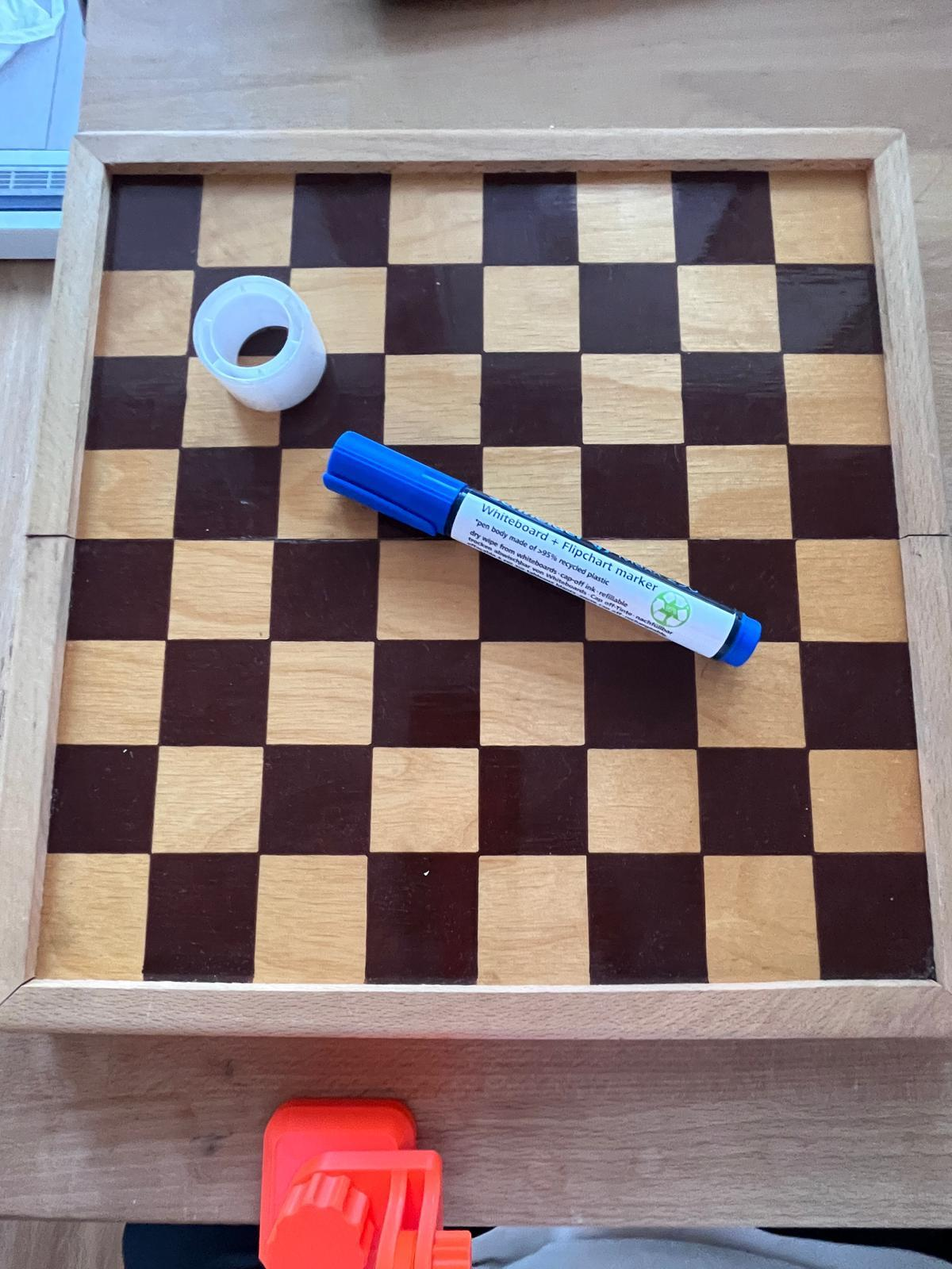marker: (332, 427, 758, 663)
tape: (195, 268, 330, 412)
